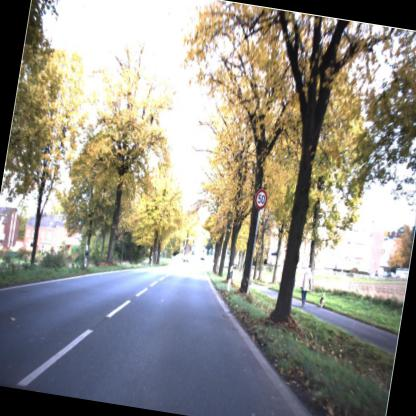prohibitory: (250, 186, 268, 212)
